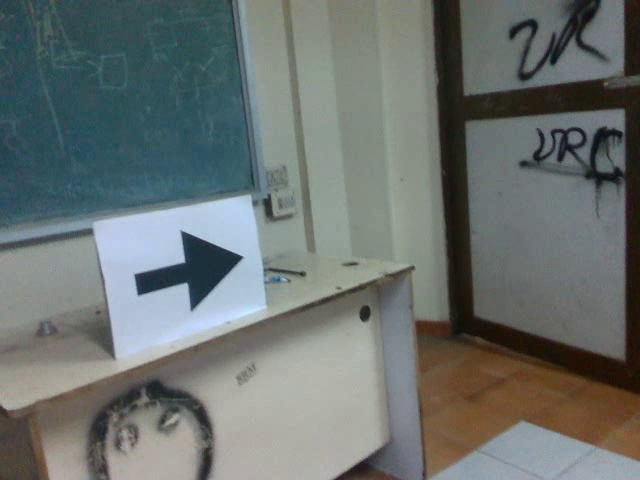Right: (129, 228, 245, 315)
